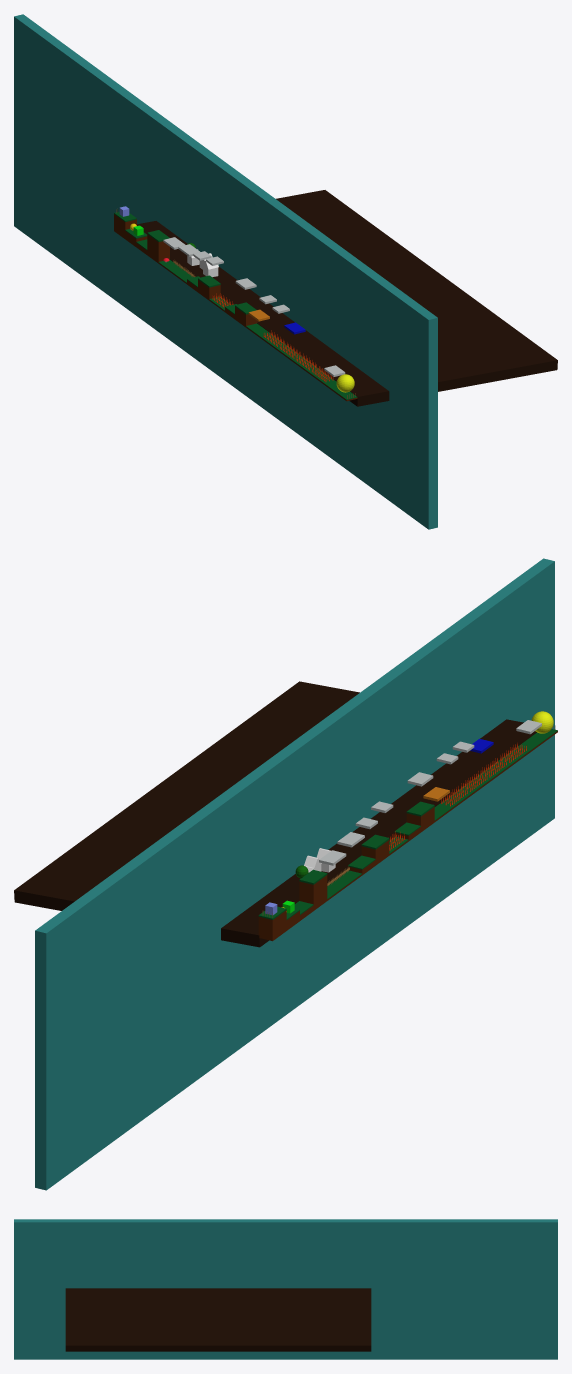
File: Location011.fbx
3 renders of one model, top to bottom at view 1: azimuth 30°, elevation 25°; view 2: azimuth 150°, elevation 25°; view 3: azimuth 270°, elevation 25°, orthographic. The views are drawn at different scales.
Visible parts, largest first — view 1: Cube.002, Cube.001, Cube.030; view 2: Cube.002, Cube.001, Cube.030, Cube.013, Cube.027; view 3: Cube.002, Cube.001.
Part boxes in pixels (<box>): Cube.002: <box>14,14,437,529</box>; Cube.001: <box>137,190,557,406</box>; Cube.030: <box>246,323,357,401</box>; Cube.002: <box>35,558,554,1190</box>; Cube.001: <box>14,681,536,947</box>; Cube.030: <box>434,729,557,821</box>; Cube.013: <box>299,869,327,910</box>; Cube.027: <box>258,906,286,941</box>; Cube.002: <box>14,1219,557,1359</box>; Cube.001: <box>65,1288,371,1351</box>.
Size of the model in its own units: 6816 by 6407 by 22964.
